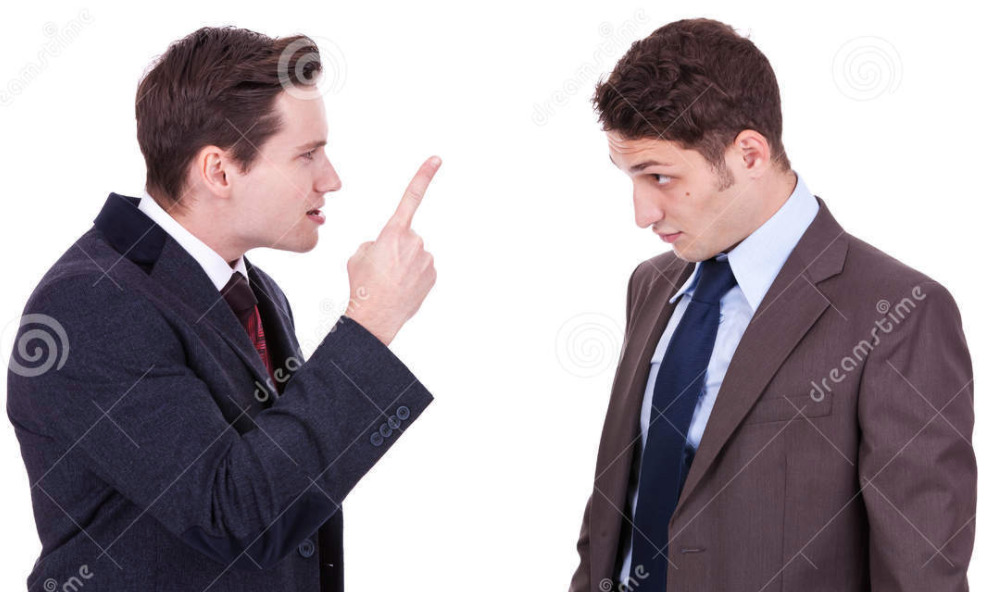Bad: (9, 17, 978, 592)
